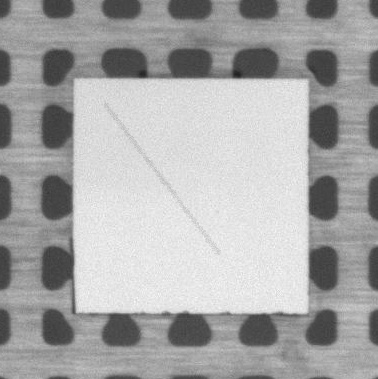DIE_CRACK: (105, 104, 218, 254)
